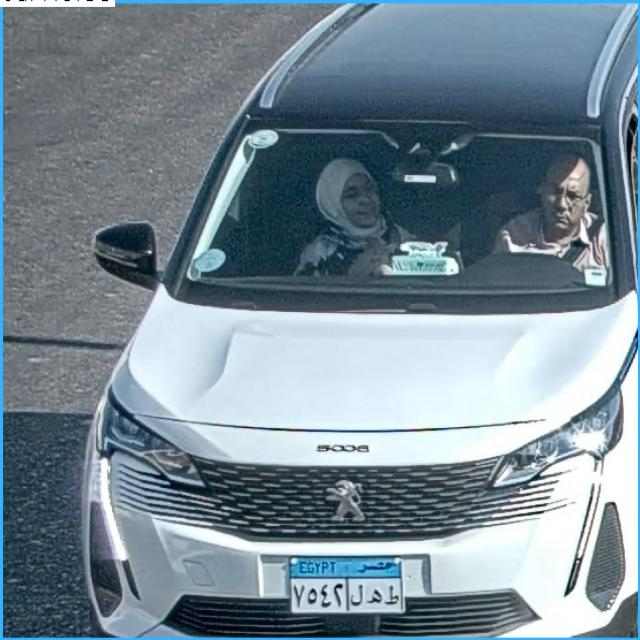windshield: (164, 120, 620, 302)
